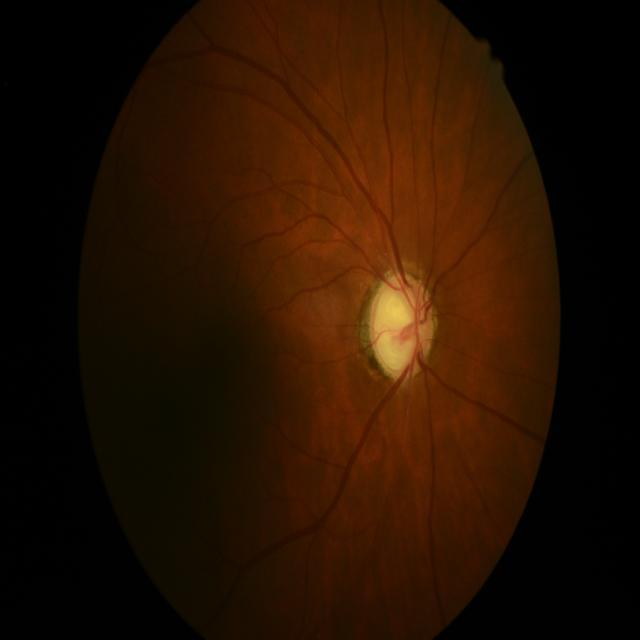cup: (374, 286, 422, 371)
disk: (369, 273, 436, 381)
